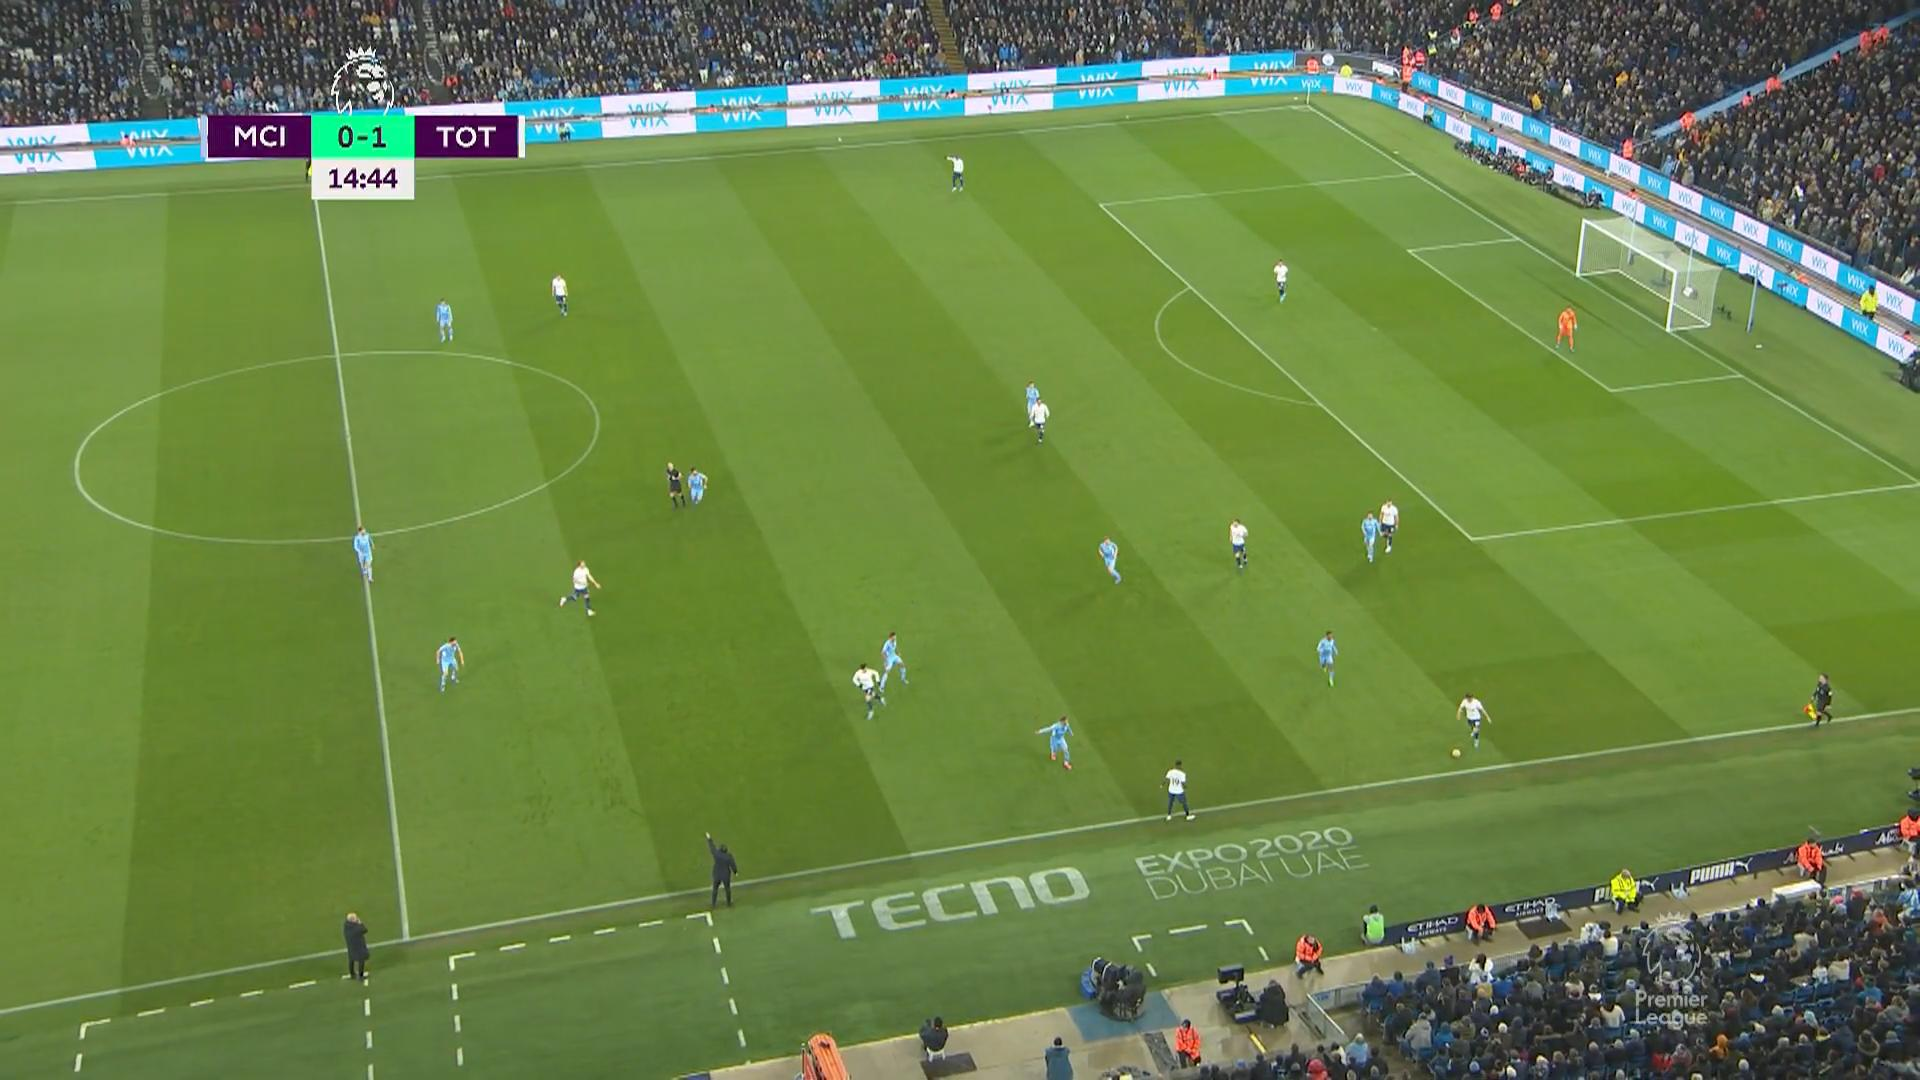ball: (1451, 748, 1461, 759)
goalkeeper: (1554, 305, 1577, 351)
player: (558, 558, 599, 617), (1034, 714, 1074, 771), (1160, 758, 1195, 822), (1455, 690, 1491, 749), (850, 662, 884, 720), (878, 630, 908, 689), (434, 635, 464, 692), (1315, 629, 1338, 687), (352, 525, 374, 583), (1377, 497, 1399, 553), (1097, 536, 1122, 584), (1228, 518, 1249, 572), (1360, 510, 1380, 563), (1028, 397, 1049, 444), (434, 297, 454, 343), (686, 466, 707, 506), (550, 273, 569, 316), (945, 152, 964, 193), (1272, 258, 1289, 303), (1026, 381, 1040, 430)
referee: (1807, 670, 1835, 732), (664, 461, 686, 509)
staff: (703, 831, 738, 908), (342, 910, 372, 984)
